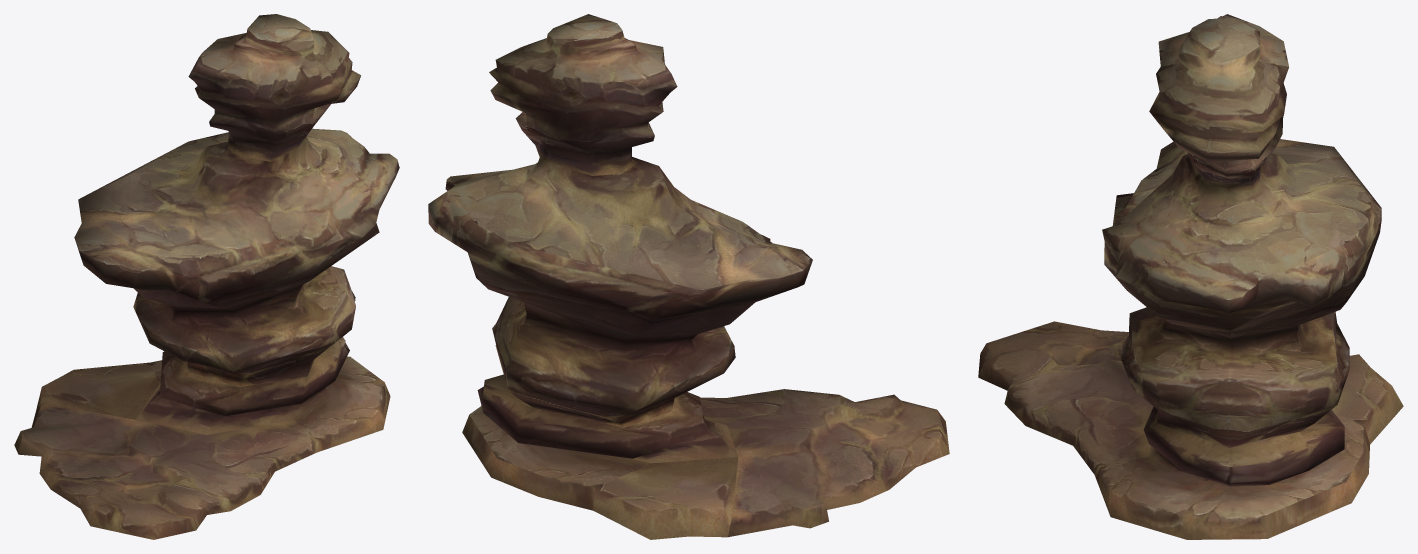
The model's file is Stone_2.FBX.
The picture shows the model from 3 angles, left to right: view 1: azimuth 30°, elevation 25°; view 2: azimuth 150°, elevation 25°; view 3: azimuth 270°, elevation 25°; orthographic projection. The views are drawn at different scales.
Parts seen in each view (by area): view 1: Stone_2; view 2: Stone_2; view 3: Stone_2.
Part boxes in pixels (<box>): Stone_2: <box>14,14,399,539</box>; Stone_2: <box>428,14,949,539</box>; Stone_2: <box>978,14,1403,539</box>.
Size of the model in its own units: 882 by 839 by 716.
